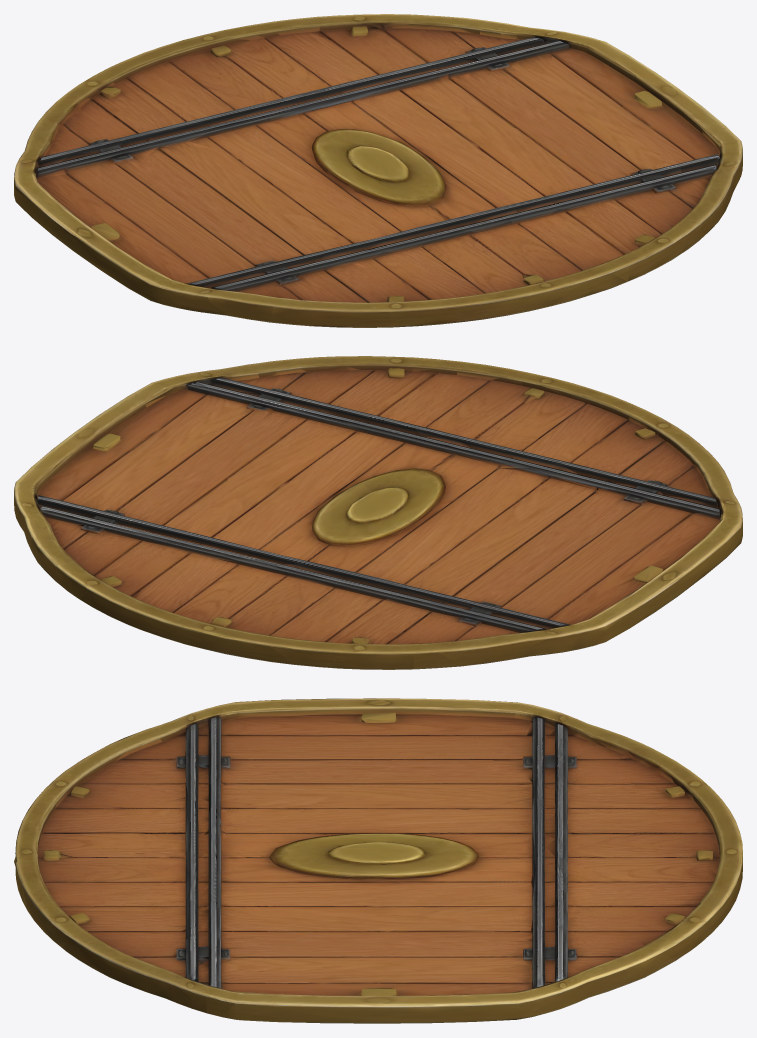
Rendered from cargo_track_disc.glb.
3 renders of one model, top to bottom at view 1: azimuth 30°, elevation 25°; view 2: azimuth 150°, elevation 25°; view 3: azimuth 270°, elevation 25°, orthographic. The views are drawn at different scales.
Visible parts, largest first — view 1: RotatingTrackDisc; view 2: RotatingTrackDisc; view 3: RotatingTrackDisc.
Part boxes in pixels (x1,y1,x2,y2): RotatingTrackDisc: [14, 14, 742, 327]; RotatingTrackDisc: [14, 356, 742, 669]; RotatingTrackDisc: [14, 698, 742, 1023].
Bounding box in the file's own units: 0.4 × 0.012 × 0.3995.
Materials: 1 (1 with a texture image).
